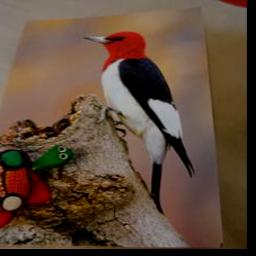Woodpecker: (85, 28, 196, 215)
